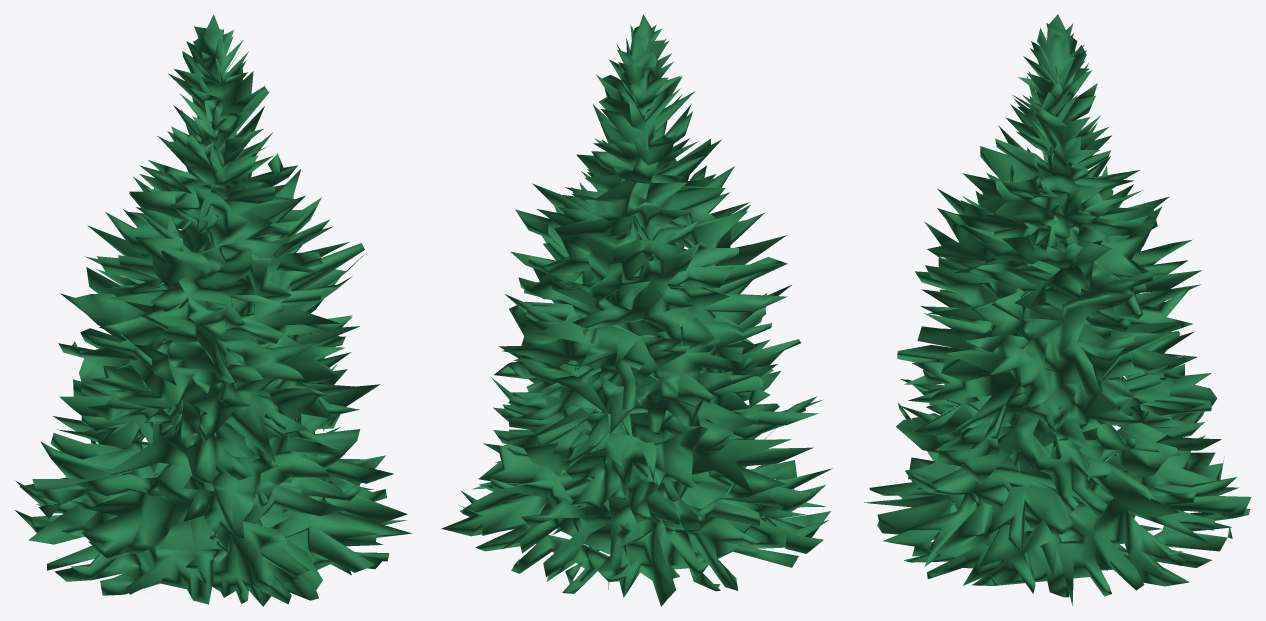
The model's file is tree-lo.glb.
3 renders of one model, left to right at view 1: azimuth 30°, elevation 25°; view 2: azimuth 150°, elevation 25°; view 3: azimuth 270°, elevation 25°, orthographic. The views are drawn at different scales.
Parts seen in each view (by area): view 1: tree; view 2: tree; view 3: tree.
Boxes of the visible parts, x1=… form: tree: x1=15, y1=14, x2=412, y2=606; tree: x1=441, y1=14, x2=832, y2=606; tree: x1=864, y1=14, x2=1251, y2=605.
Size of the model in its own units: 0.5077 by 0.7457 by 0.5116.
